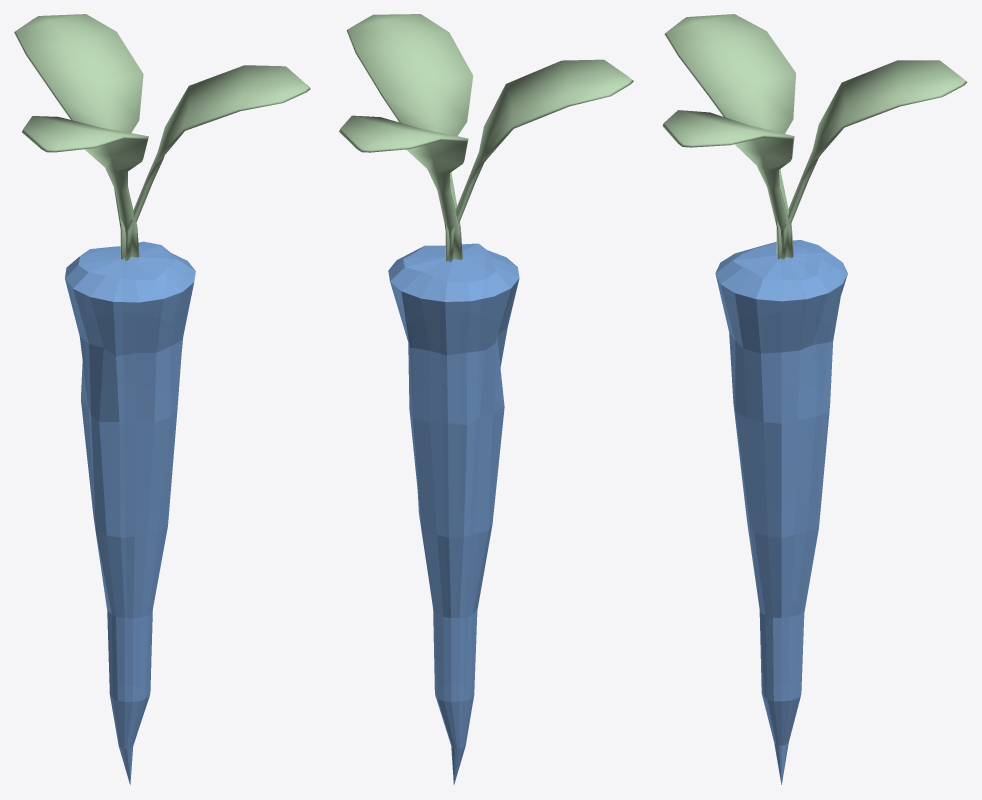
The model's file is iceroot.fbx.
3 renders of one model, left to right at view 1: azimuth 30°, elevation 25°; view 2: azimuth 150°, elevation 25°; view 3: azimuth 270°, elevation 25°, orthographic.
Parts seen in each view (by area): view 1: meroot.001, leafs.002; view 2: meroot.001, leafs.002; view 3: meroot.001, leafs.002.
Boxes of the visible parts, bbox=[...] form: meroot.001: bbox=[65, 241, 195, 784]; leafs.002: bbox=[14, 14, 310, 260]; meroot.001: bbox=[388, 243, 519, 784]; leafs.002: bbox=[339, 14, 633, 261]; meroot.001: bbox=[715, 240, 847, 784]; leafs.002: bbox=[662, 14, 967, 259].
Size of the model in its own units: 47.62 by 121 by 47.25.
